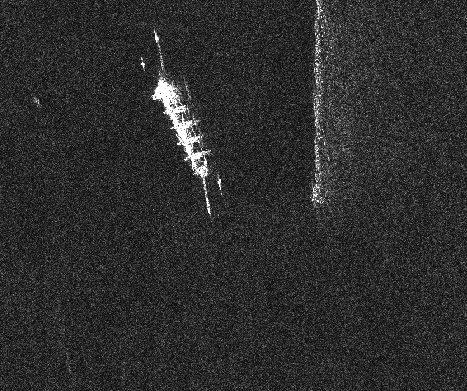ship: (149, 75, 214, 181)
